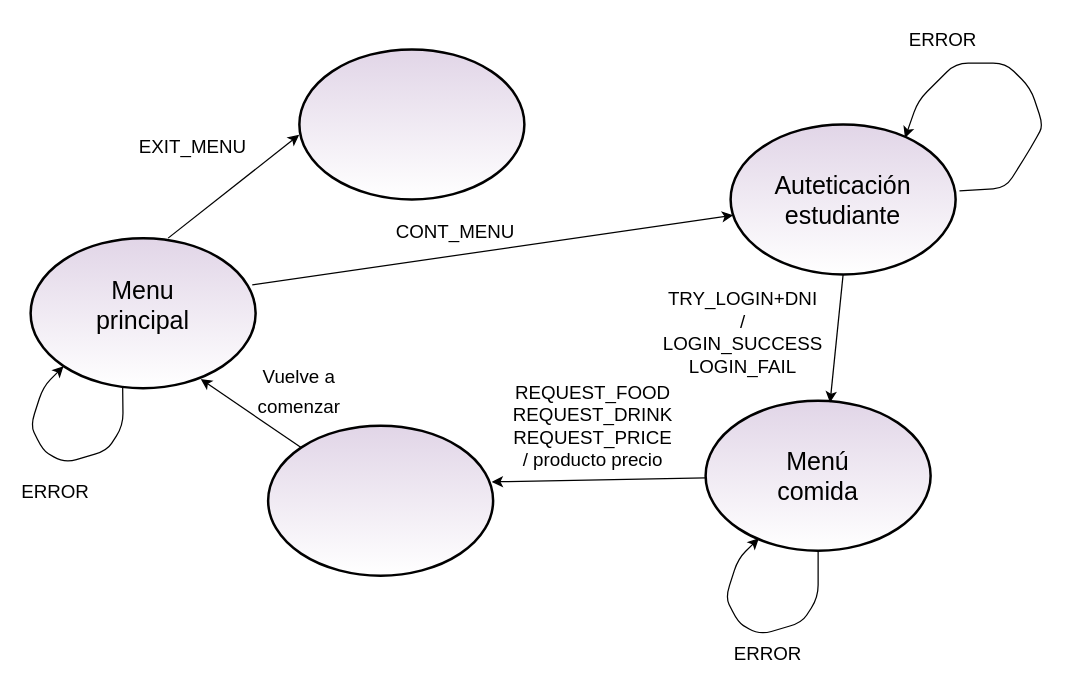
This 1075x686 diagram has some shape labels left out. Here are the shapes that lost their labels. From the top down, the centre of each, then its label:
the point at 411,124: Final
the point at 380,500: Producto servido
